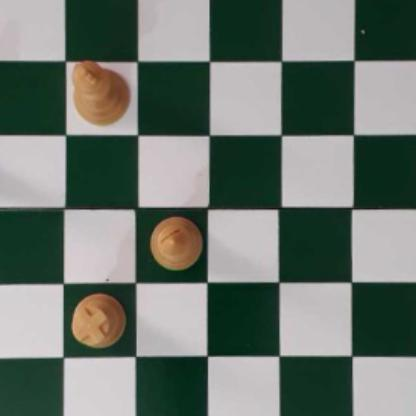white-bishop: (149, 214, 205, 272)
white-king: (73, 55, 127, 124)
white-rook: (70, 293, 127, 346)
